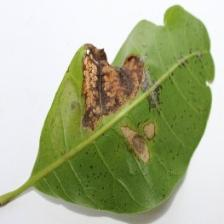leaf miner: (0, 3, 215, 214), (79, 42, 158, 165)
